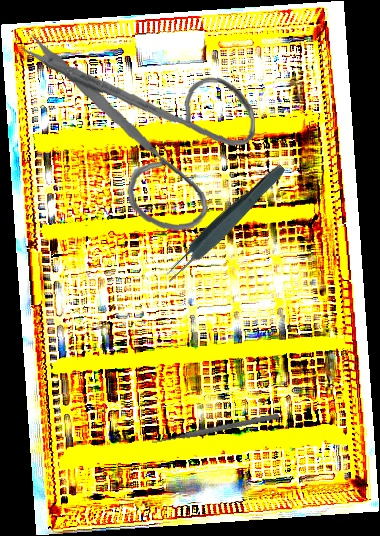Iris Scissors: (17, 16, 263, 243)
Pusher: (151, 411, 280, 447)
Tissue Forceps: (158, 159, 291, 287)
